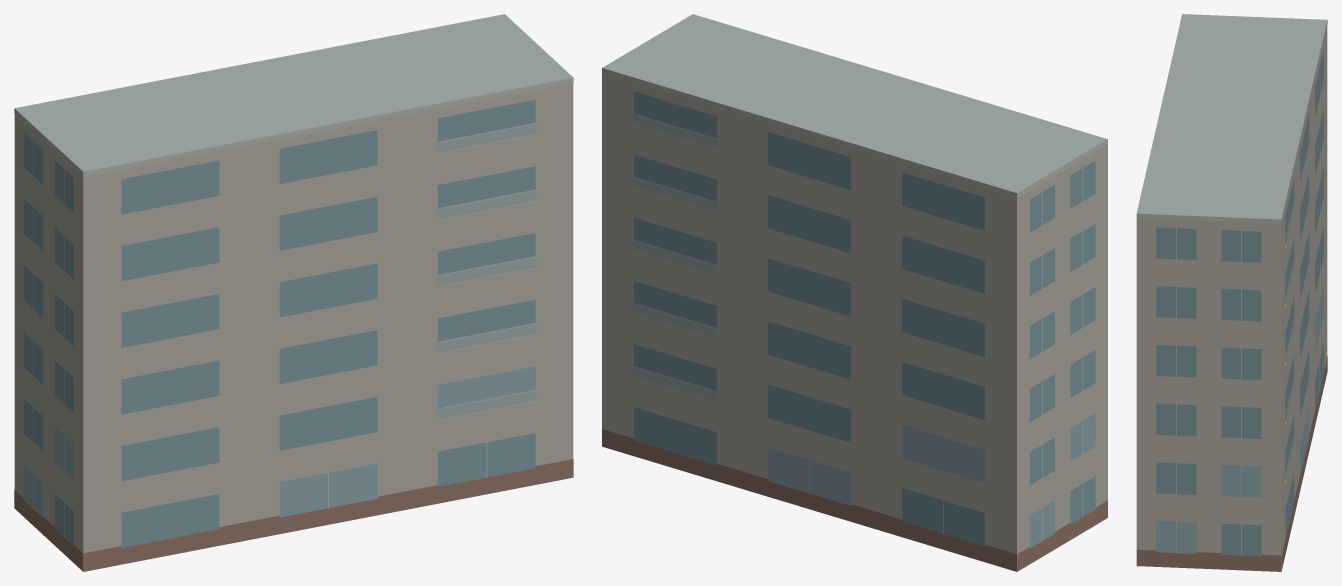
Rendered from survey-upis-32577701.glb.
The picture shows the model from 3 angles, left to right: view 1: azimuth 30°, elevation 25°; view 2: azimuth 150°, elevation 25°; view 3: azimuth 270°, elevation 25°; orthographic projection. The views are drawn at different scales.
Visible parts, largest first — view 1: survey-upis-32577701.tmp; view 2: survey-upis-32577701.tmp; view 3: survey-upis-32577701.tmp.
Part boxes in pixels (x1,y1,x2,y2): survey-upis-32577701.tmp: (14,14,573,571); survey-upis-32577701.tmp: (602,14,1107,571); survey-upis-32577701.tmp: (1136,14,1327,571).
Bounding box in the file's own units: 22.88 × 18.3 × 8.99.
